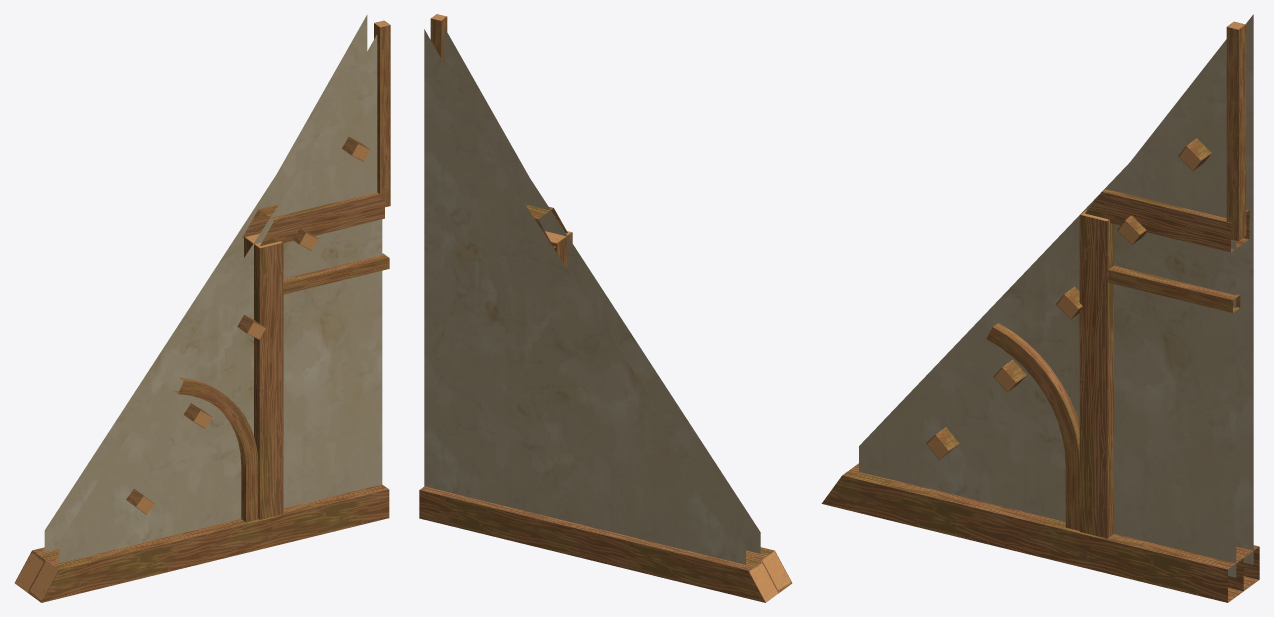
File: Roof_Front_Brick6_Half_L.gltf
The picture shows the model from 3 angles, left to right: view 1: azimuth 30°, elevation 25°; view 2: azimuth 150°, elevation 25°; view 3: azimuth 330°, elevation 25°; orthographic projection. The views are drawn at different scales.
Visible parts, largest first — view 1: Roof_Front_Brick6_Half_L; view 2: Roof_Front_Brick6_Half_L; view 3: Roof_Front_Brick6_Half_L.
Part boxes in pixels (<box>): Roof_Front_Brick6_Half_L: <box>15,15,390,602</box>; Roof_Front_Brick6_Half_L: <box>419,14,792,602</box>; Roof_Front_Brick6_Half_L: <box>821,14,1259,602</box>.
Size of the model in its own units: 3.41 by 4.52 by 0.4896.
2 materials, 2 textured.
